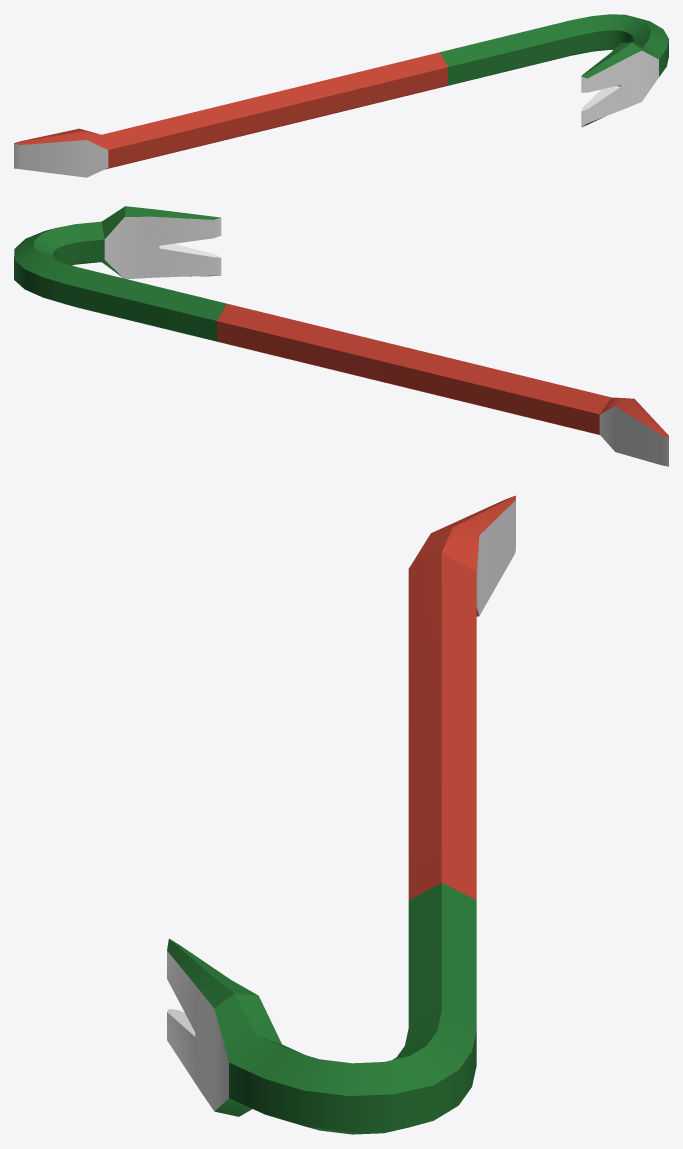
The model's file is Crowbar.FBX.
3 renders of one model, top to bottom at view 1: azimuth 30°, elevation 25°; view 2: azimuth 150°, elevation 25°; view 3: azimuth 270°, elevation 25°, orthographic. The views are drawn at different scales.
Visible parts, largest first — view 1: Line002; view 2: Line002; view 3: Line002.
Part boxes in pixels (x1=…): Line002: x1=14, y1=14, x2=668, y2=177; Line002: x1=14, y1=206, x2=668, y2=466; Line002: x1=167, y1=495, x2=515, y2=1134.
Bounding box in the file's own units: 241 × 23.61 × 59.86.
